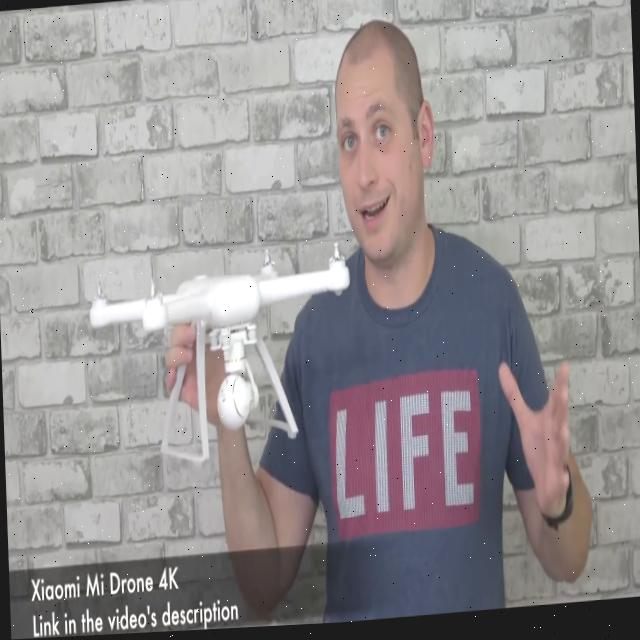drone: (78, 235, 352, 484)
